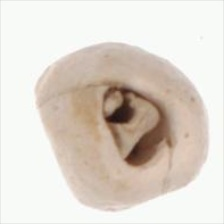L3: (95, 81, 177, 170)
L4: (33, 41, 210, 213)
